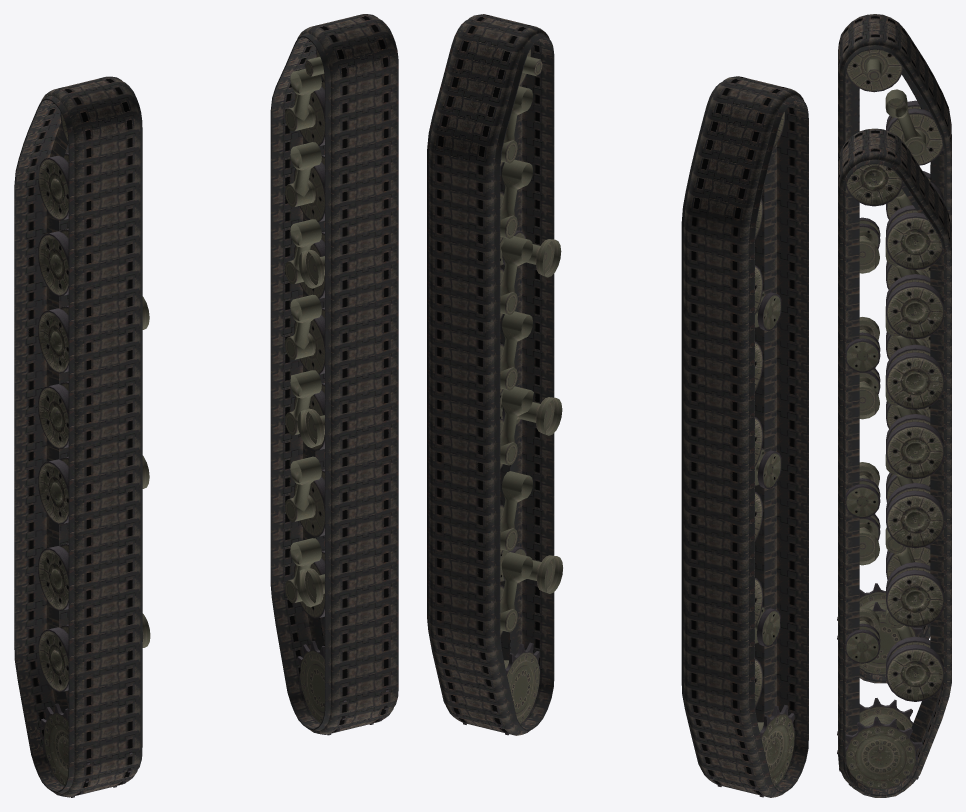
File: Chassis.glb
3 renders of one model, left to right at view 1: azimuth 30°, elevation 25°; view 2: azimuth 150°, elevation 25°; view 3: azimuth 270°, elevation 25°, orthographic. The views are drawn at different scales.
Parts seen in each view (by area): view 1: set_0_group_0, set_1_group_0, set_2_group_0, set_3_group_0; view 2: set_0_group_0, set_1_group_0, set_2_group_0, set_3_group_0; view 3: set_2_group_0, set_1_group_0, set_3_group_0, set_0_group_0.
Boxes of the visible parts, left/top/right/bottom form: set_0_group_0: left=14, top=76, right=142, bottom=797; set_1_group_0: left=270, top=14, right=398, bottom=734; set_2_group_0: left=285, top=48, right=388, bottom=735; set_3_group_0: left=38, top=112, right=150, bottom=797; set_0_group_0: left=681, top=76, right=808, bottom=797; set_1_group_0: left=427, top=14, right=554, bottom=735; set_2_group_0: left=452, top=49, right=562, bottom=735; set_3_group_0: left=707, top=112, right=794, bottom=797; set_2_group_0: left=837, top=164, right=943, bottom=791; set_1_group_0: left=838, top=128, right=951, bottom=797; set_3_group_0: left=837, top=49, right=943, bottom=674; set_0_group_0: left=838, top=14, right=951, bottom=683.
Size of the model in its own units: 3.24 by 6.64 by 1.07.
4 materials, 4 textured.
